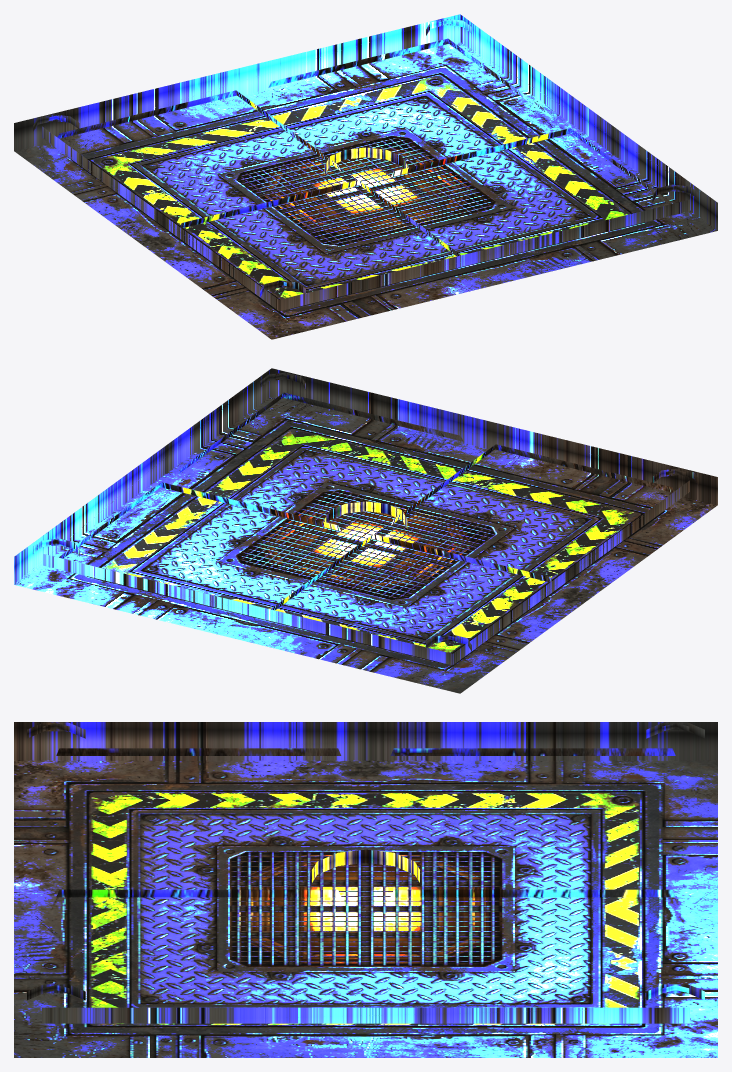
File: ground_hazard.glb
The picture shows the model from 3 angles, top to bottom: view 1: azimuth 30°, elevation 25°; view 2: azimuth 150°, elevation 25°; view 3: azimuth 270°, elevation 25°; orthographic projection. The views are drawn at different scales.
Visible parts, largest first — view 1: Ground_Hazard; view 2: Ground_Hazard; view 3: Ground_Hazard.
Part boxes in pixels (bbox=[...]): Ground_Hazard: bbox=[14, 14, 717, 339]; Ground_Hazard: bbox=[14, 368, 717, 693]; Ground_Hazard: bbox=[14, 722, 717, 1057].
Size of the model in its own units: 1 by 0.078 by 1.
Materials: 1 (1 with a texture image).
